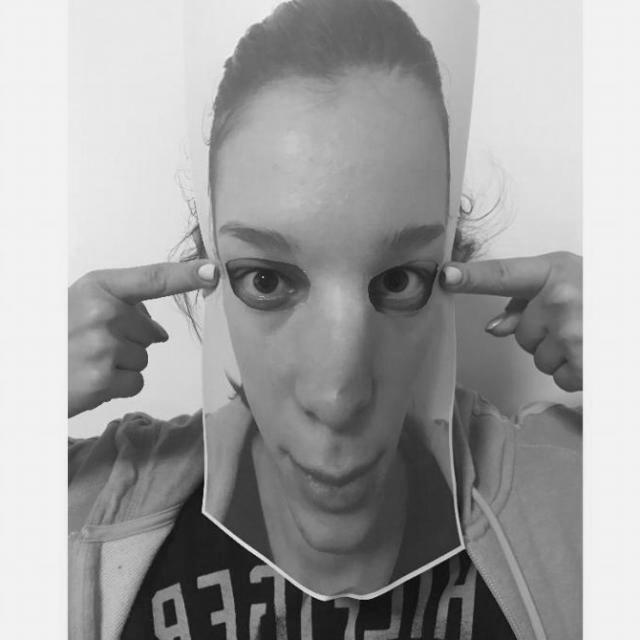fake: (184, 0, 486, 595)
